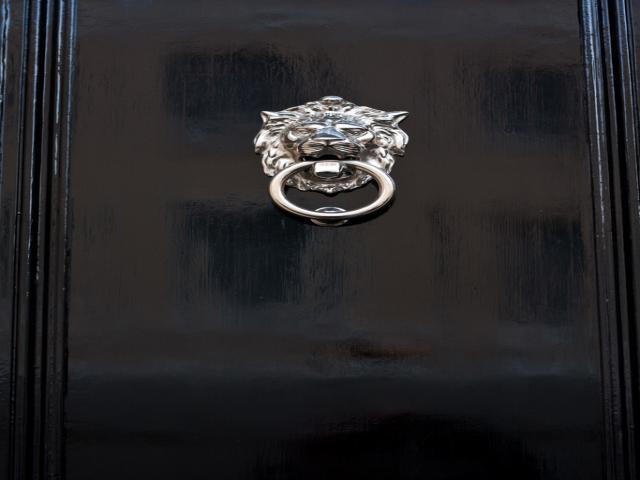Door-handle: (252, 94, 411, 228)
